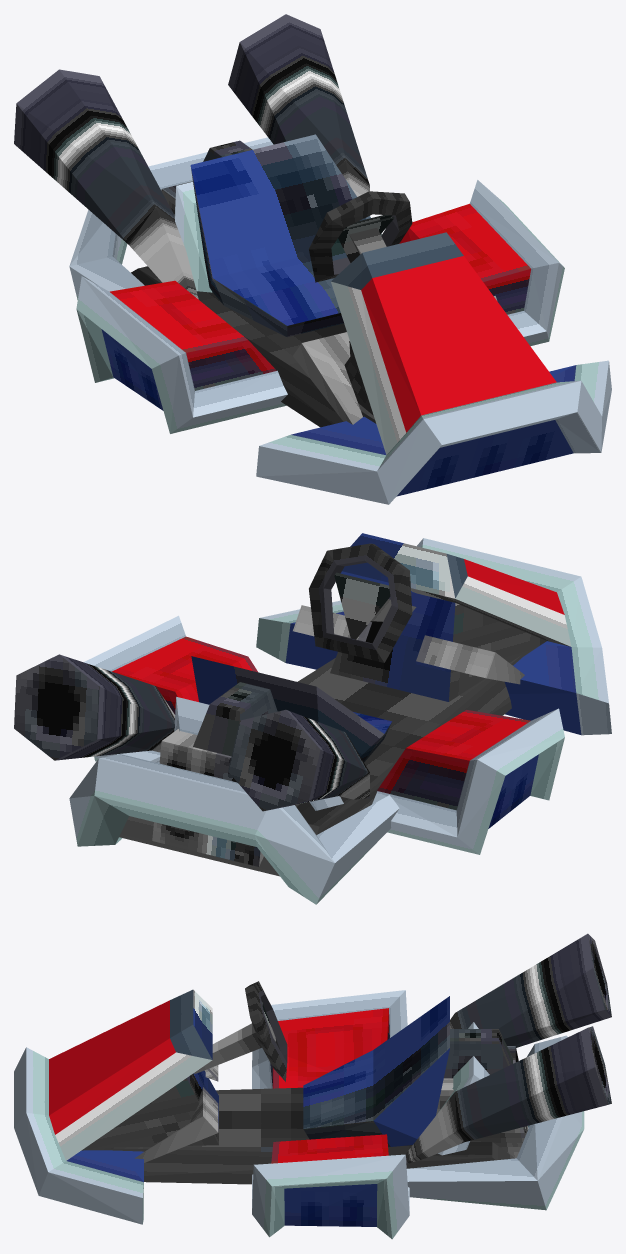
Rendered from body_std_lod.obj.
3 renders of one model, top to bottom at view 1: azimuth 30°, elevation 25°; view 2: azimuth 150°, elevation 25°; view 3: azimuth 270°, elevation 25°, orthographic. The views are drawn at different scales.
Visible parts, largest first — view 1: _0_0_node__0_0; view 2: _0_0_node__0_0; view 3: _0_0_node__0_0.
Boxes of the visible parts, left/top/right/bottom form: _0_0_node__0_0: left=14, top=14, right=611, bottom=504; _0_0_node__0_0: left=14, top=533, right=611, bottom=904; _0_0_node__0_0: left=14, top=933, right=611, bottom=1239.
Size of the model in its own units: 14.34 by 6.76 by 20.33.
